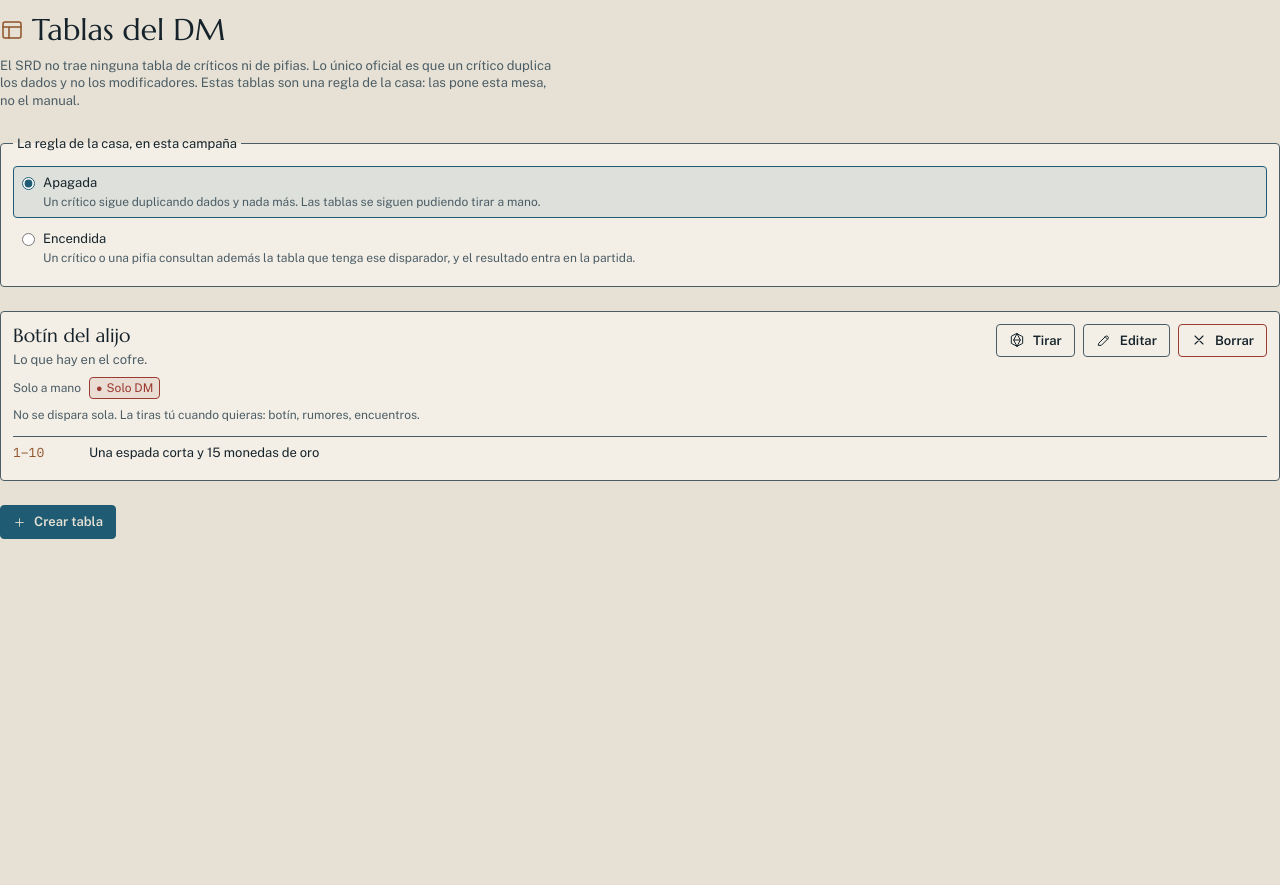
Scenario: PanelDeTablas — redactar la entrega de una fila (ficha P2-2) › las cinco monedas salen con su nombre, nunca con su clave
Click the button "Editar": (1126, 340) [1083,324,1170,357]
(page scrolled)
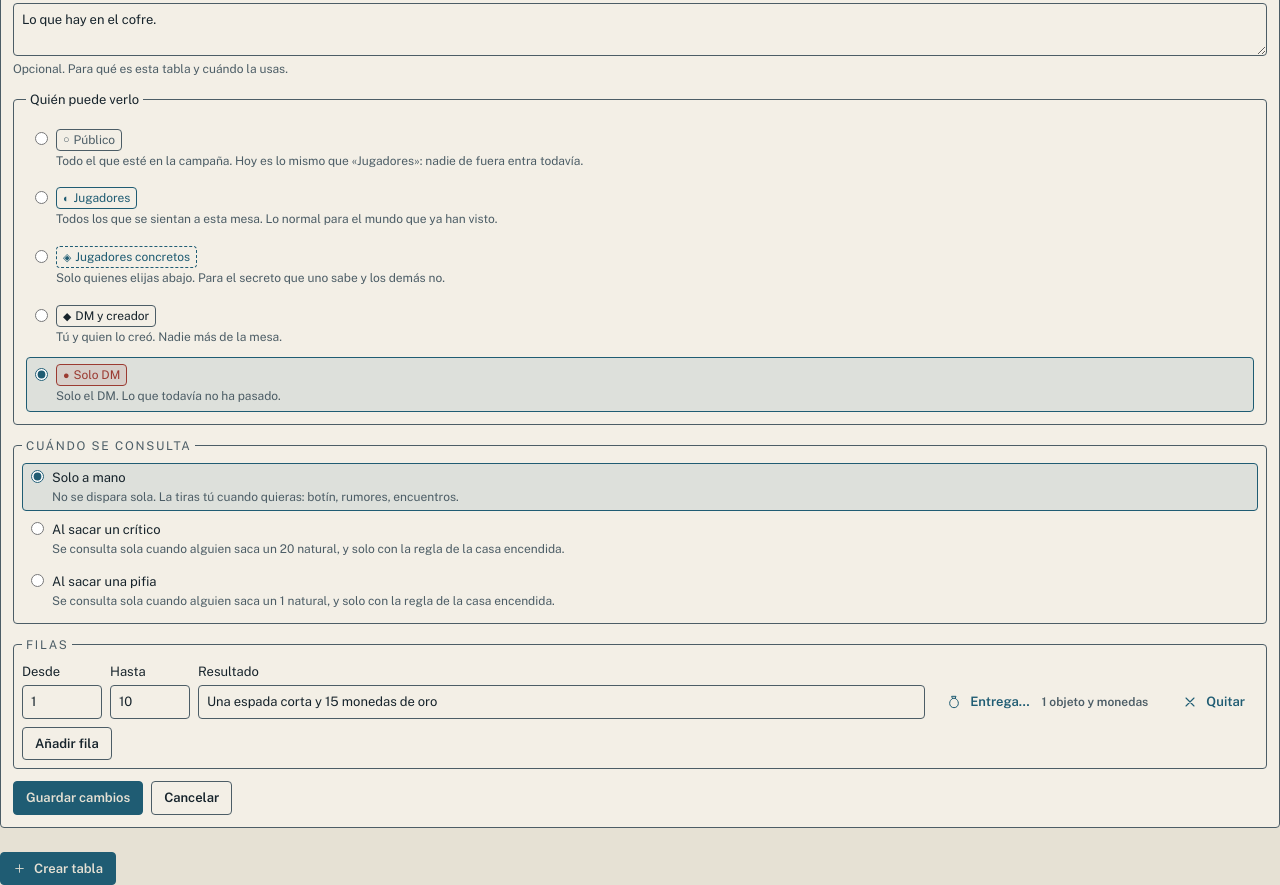
Click the button with aria-label "Entrega de la fila 1": (1047, 702) [933,685,1161,719]
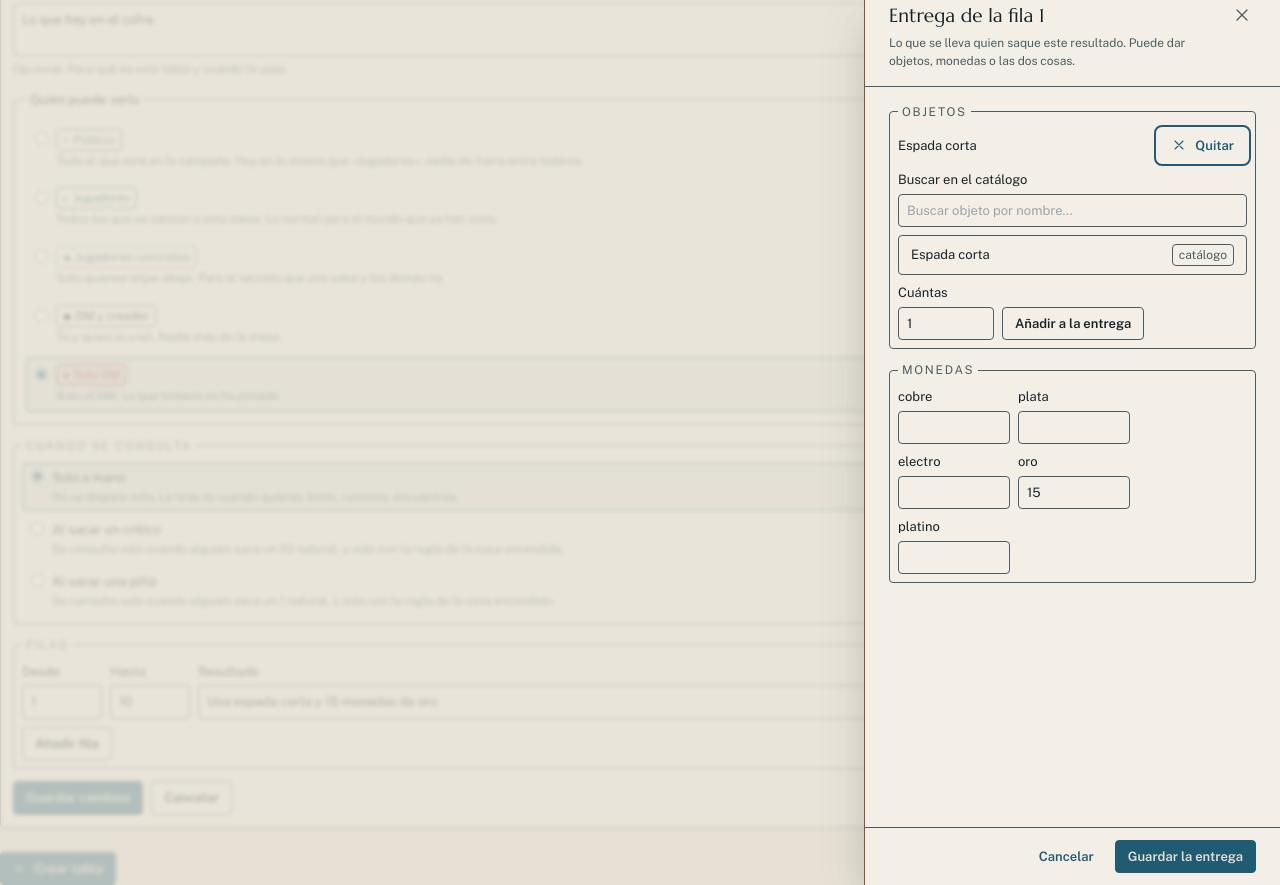
Now the number field labelled "cobre" is shown, box [898,410,1010,444]
Now the number field labelled "plata" is shown, box [1018,410,1130,444]
Now the number field labelled "electro" is shown, box [898,476,1010,509]
